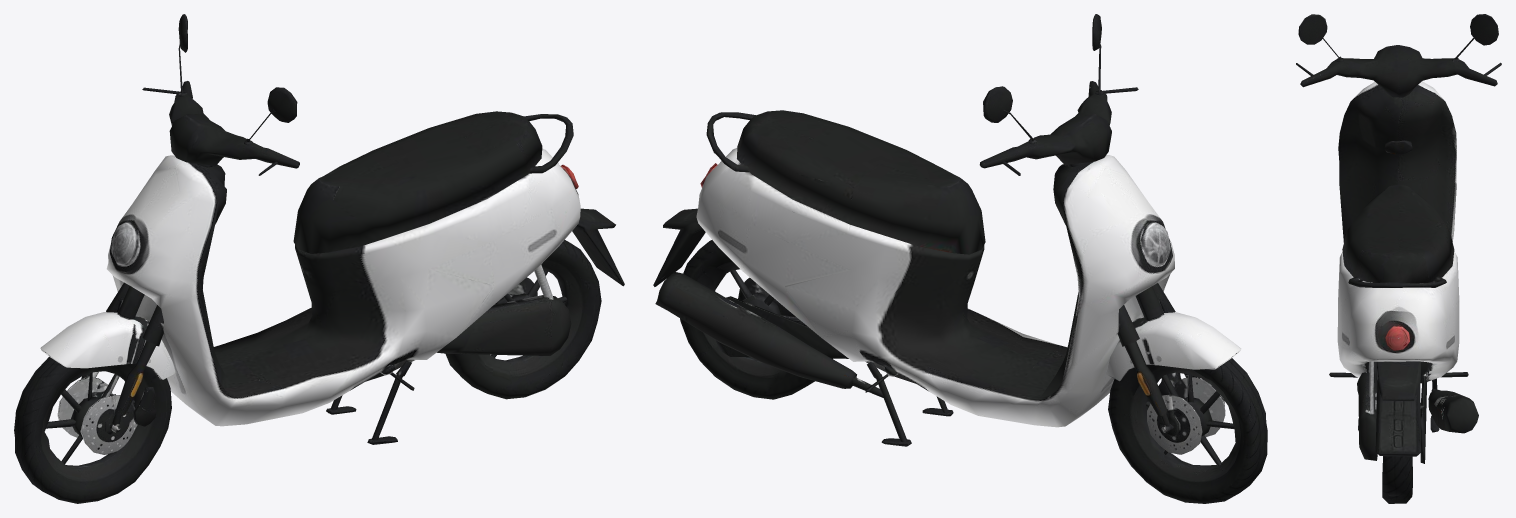
File: gogoro.glb
The picture shows the model from 3 angles, left to right: view 1: azimuth 30°, elevation 25°; view 2: azimuth 150°, elevation 25°; view 3: azimuth 270°, elevation 25°; orthographic projection. The views are drawn at different scales.
Size of the model in its own units: 1 by 0.6621 by 0.3428.
1 material, 1 textured.
